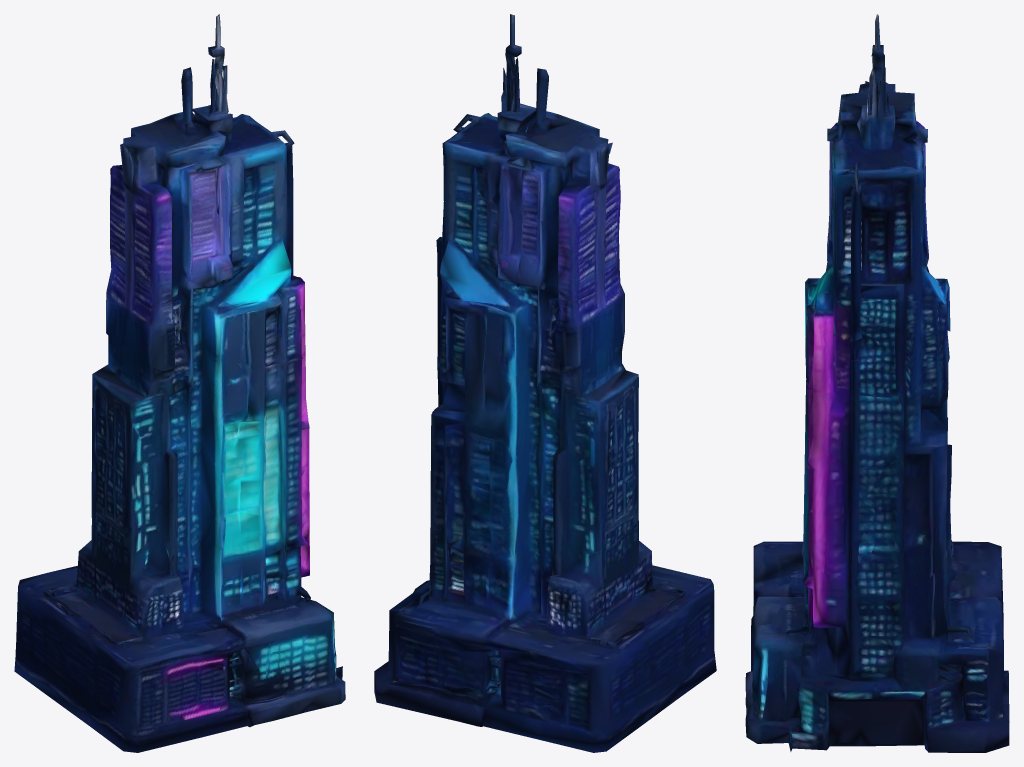
The model's file is p8tower.glb.
The picture shows the model from 3 angles, left to right: view 1: azimuth 30°, elevation 25°; view 2: azimuth 150°, elevation 25°; view 3: azimuth 270°, elevation 25°; orthographic projection. The views are drawn at different scales.
Visible parts, largest first — view 1: tripo_node_cb02a0b0-042e-4432-bfe8-0e7f50ff319f; view 2: tripo_node_cb02a0b0-042e-4432-bfe8-0e7f50ff319f; view 3: tripo_node_cb02a0b0-042e-4432-bfe8-0e7f50ff319f.
Part boxes in pixels (x1,y1,x2,y2): tripo_node_cb02a0b0-042e-4432-bfe8-0e7f50ff319f: (14,14,345,752); tripo_node_cb02a0b0-042e-4432-bfe8-0e7f50ff319f: (374,14,716,752); tripo_node_cb02a0b0-042e-4432-bfe8-0e7f50ff319f: (745,14,1009,752).
Size of the model in its own units: 0.3727 by 0.9991 by 0.3432.
Materials: 1 (1 with a texture image).
